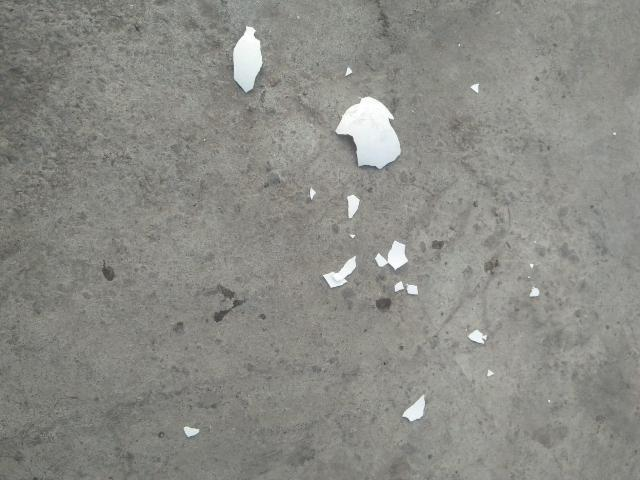Roto: (334, 96, 401, 170), (232, 25, 263, 93)
